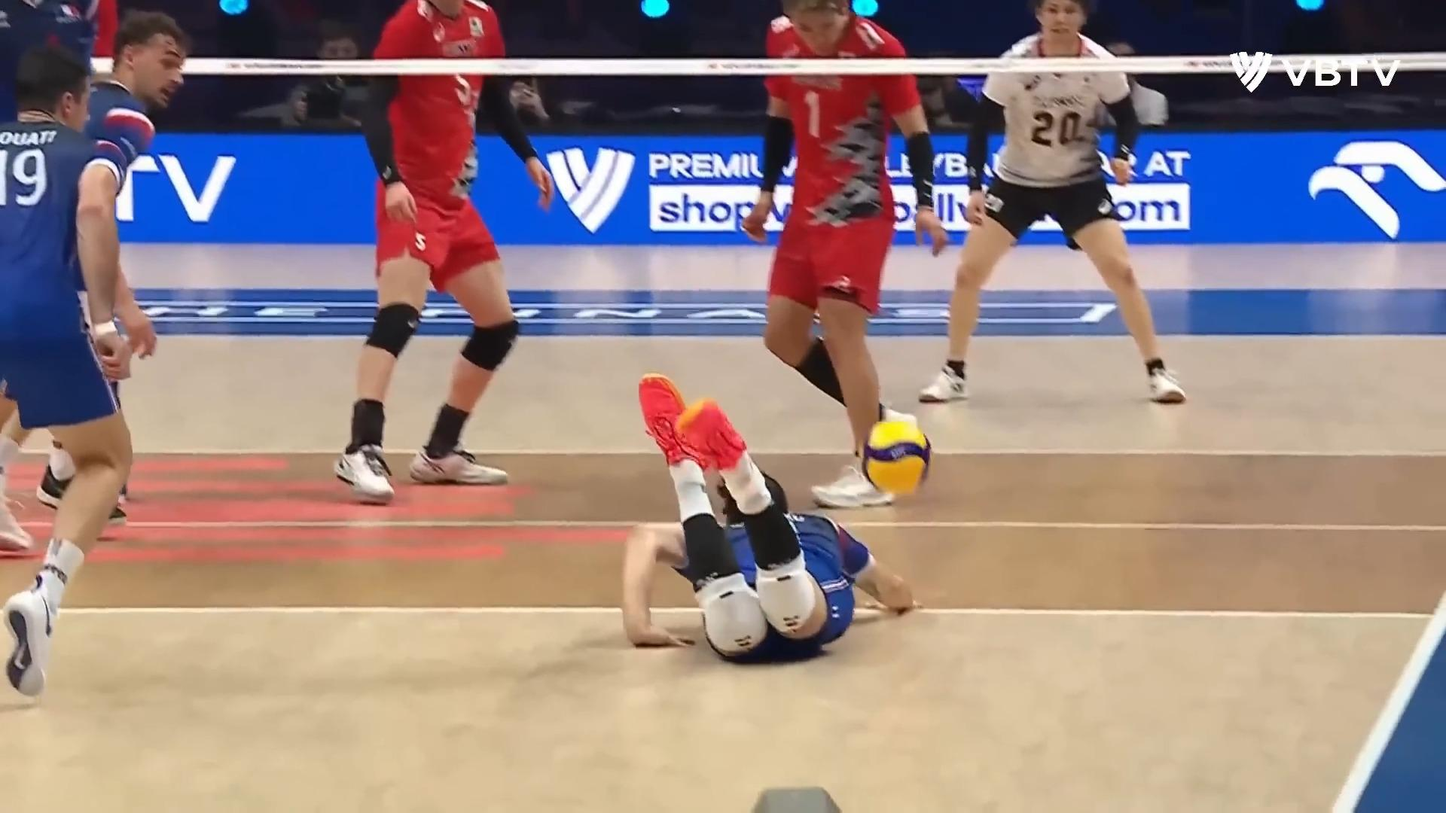ball: (866, 420, 935, 498)
